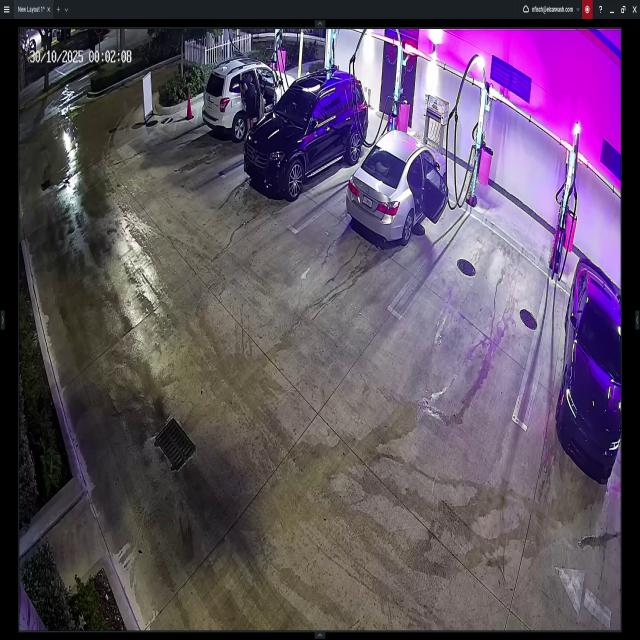Car: (247, 68, 366, 203), (556, 257, 621, 487), (346, 130, 447, 248), (205, 59, 299, 141)
